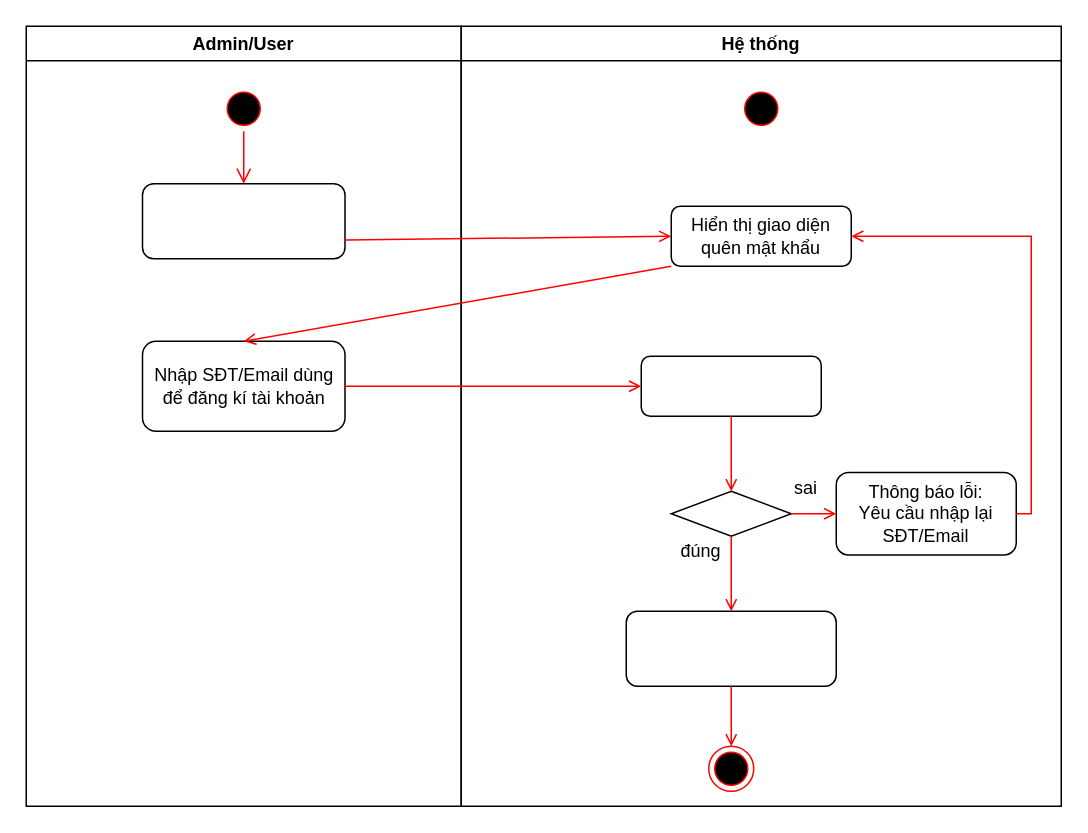
This 1088x833 diagram has some shape labels left out. The shapes that lost their labels are listed below. From the top down, each one's centre as x and y in pixels, then its label:
[243,220]: Chọn chức năng "Quên mật khẩu"
[730,385]: Kiểm tra SĐT/Email có hợp lệ
[730,648]: Gửi mật khẩu mới vào SĐT/Email
